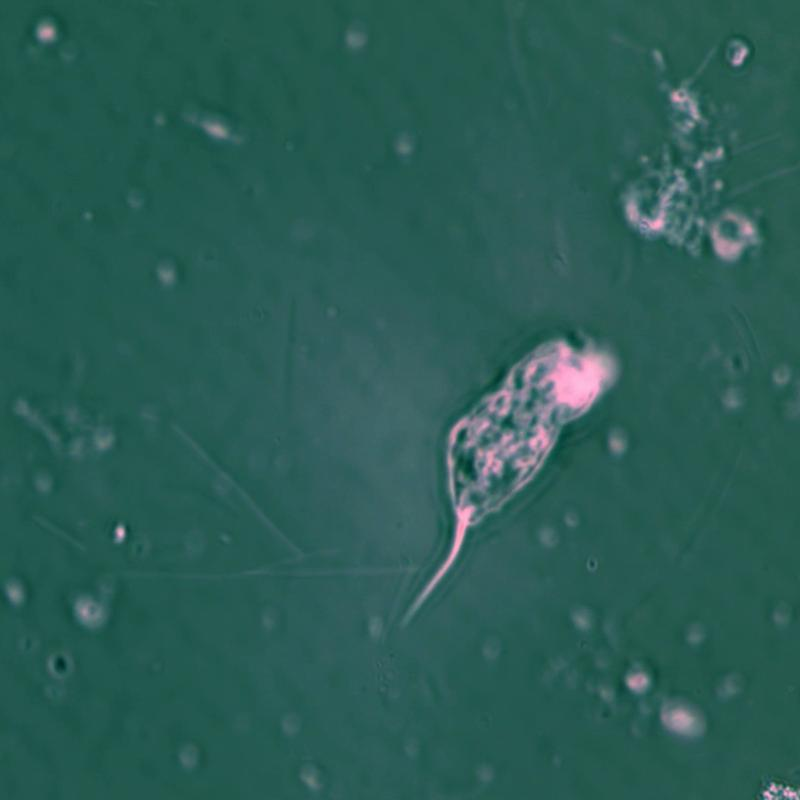depth:20: (392, 309, 625, 633)
